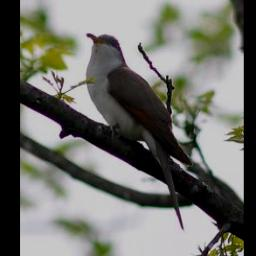Cuckoo: (85, 32, 195, 234)
